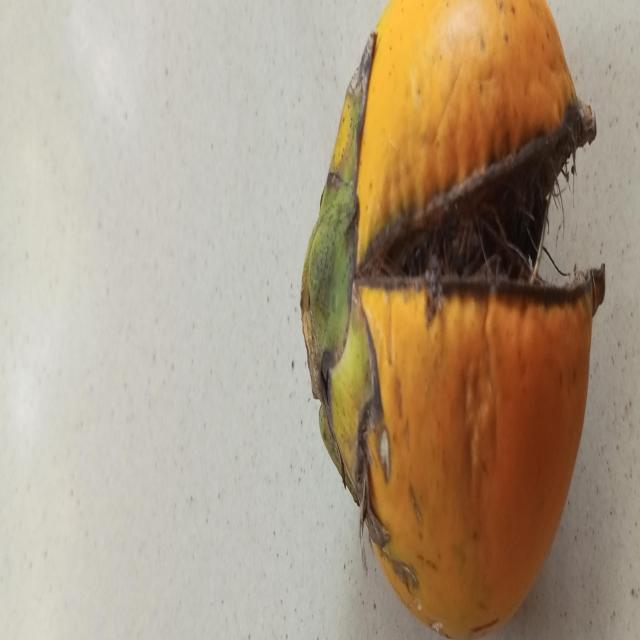damaged: (301, 0, 605, 637)
